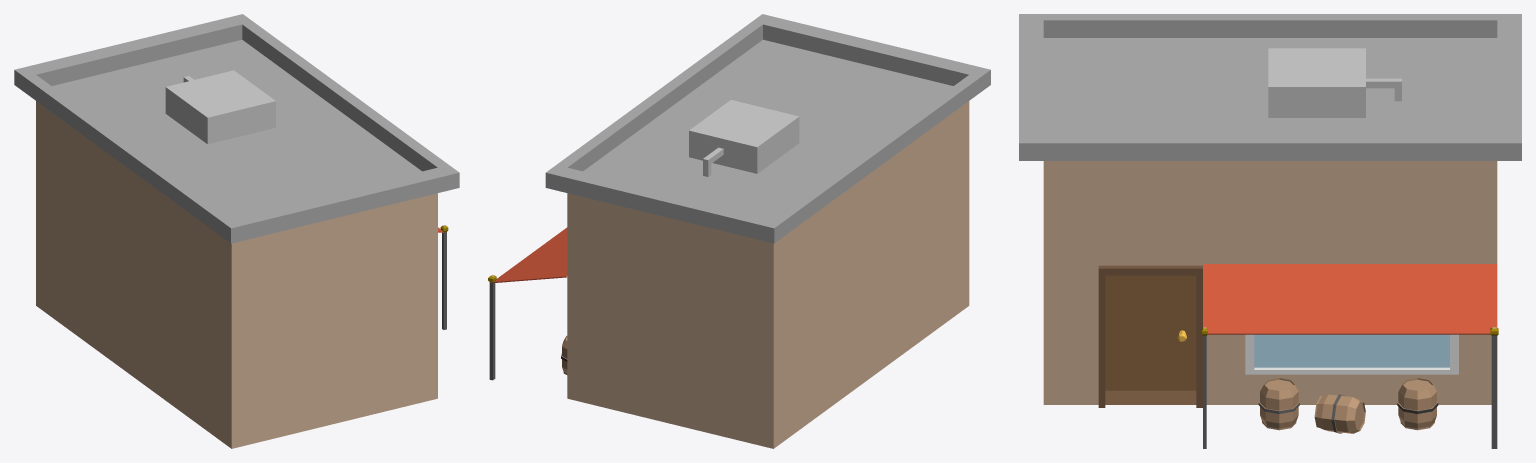
Rendered from market.glb.
The picture shows the model from 3 angles, left to right: view 1: azimuth 30°, elevation 25°; view 2: azimuth 150°, elevation 25°; view 3: azimuth 270°, elevation 25°; orthographic projection. The views are drawn at different scales.
Visible parts, largest first — view 1: Cube; view 2: Cube; view 3: Cube.
Part boxes in pixels (box(x1,y1,x2,y2)): Cube: box(14, 14, 459, 448); Cube: box(488, 14, 990, 448); Cube: box(1019, 14, 1521, 448).
Bounding box in the file's own units: 6.79 × 5.44 × 8.61.
Materials: 1 (1 with a texture image).
